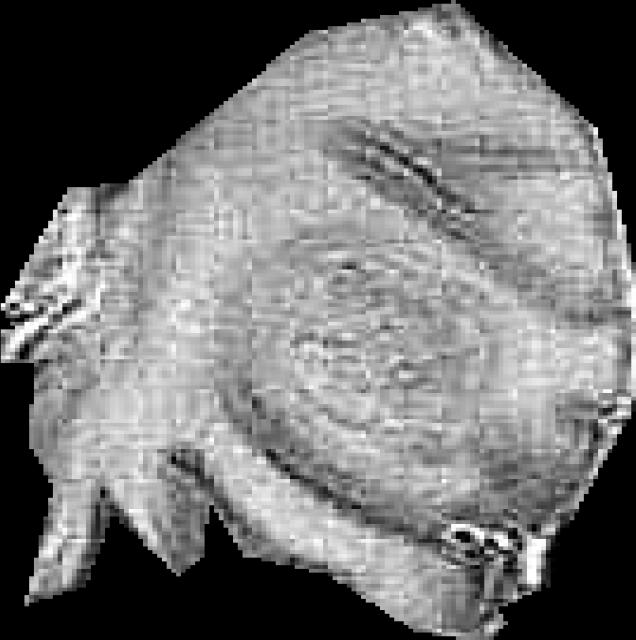tumor_moderate_chance: (1, 0, 636, 640)
